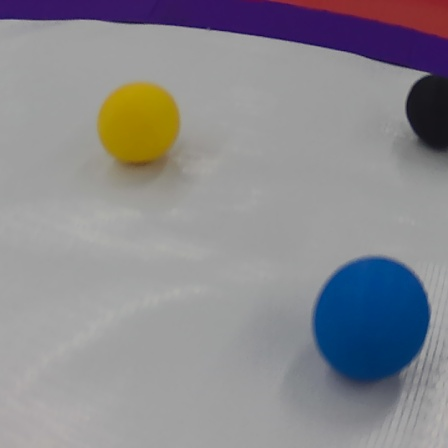black: (409, 66, 448, 159)
blue: (310, 256, 434, 383)
red_aim: (1, 0, 448, 66)
yellow: (94, 78, 185, 169)
